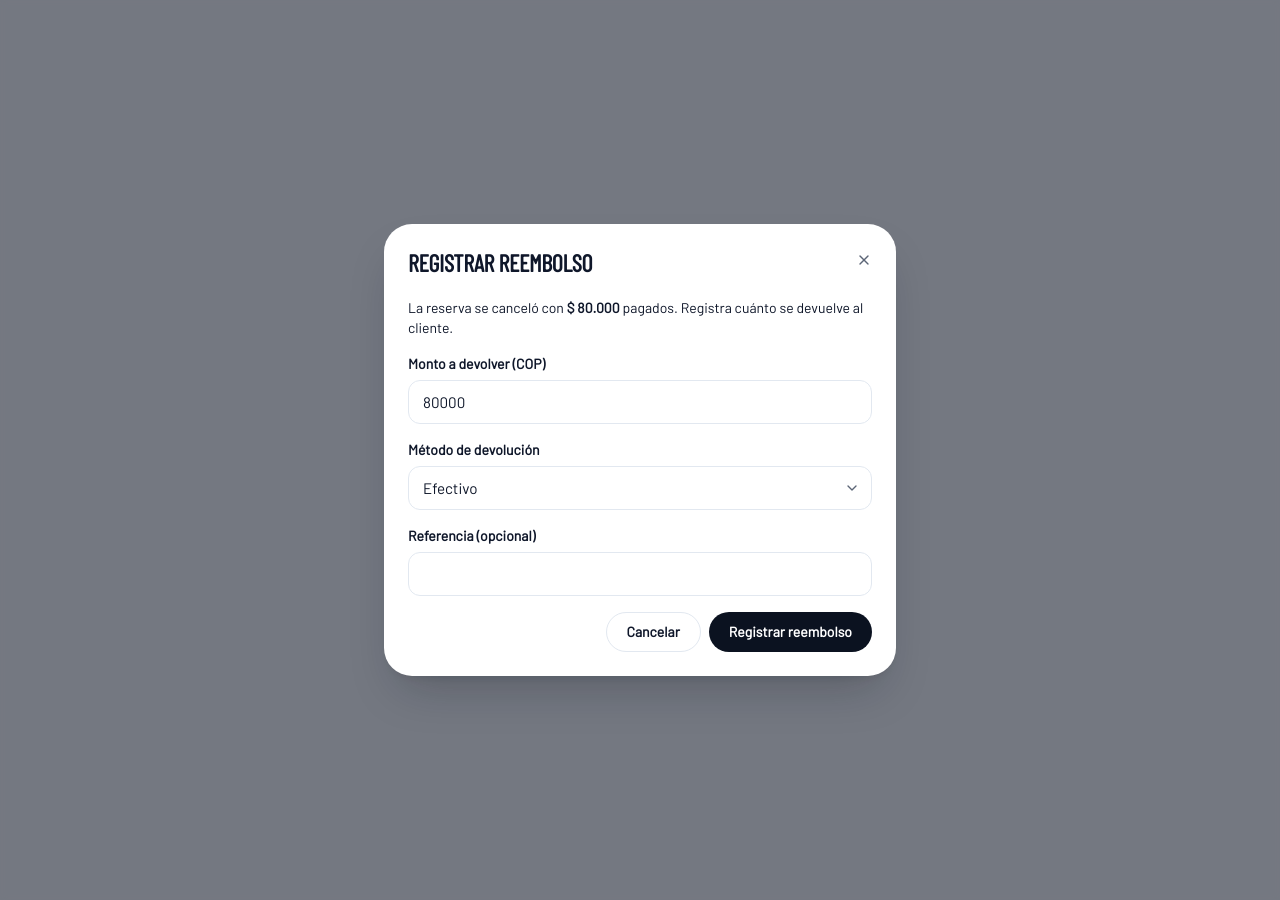
Test case: ModalReembolso › ofrece retener una parte solo cuando se devuelve menos de lo pagado
Expected: the text "retener" is not shown
Replace the text in the number field labelled "Monto a devolver (COP)" with "60000" at (640, 402), box [408,380,872,424]
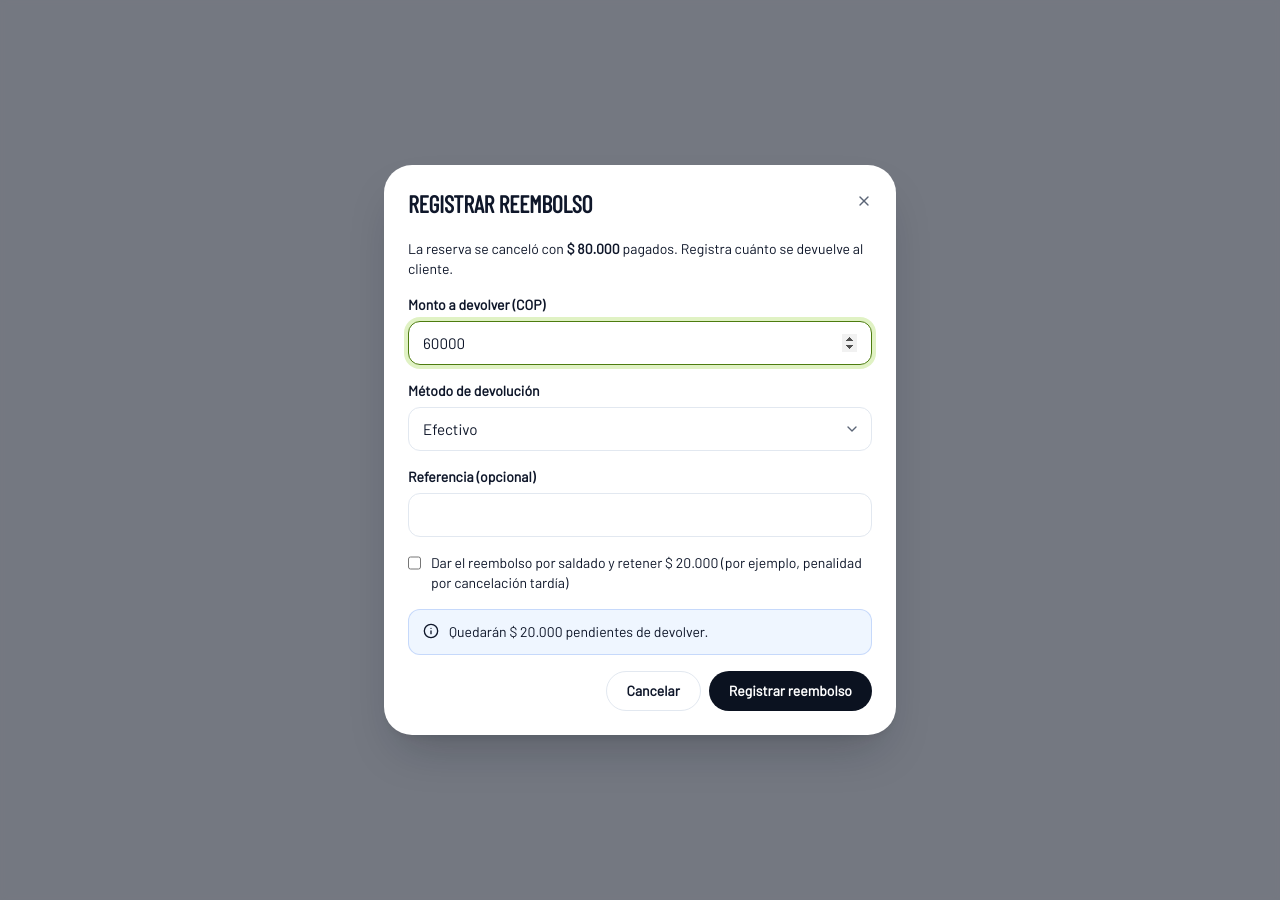
Result: the text "retener $ 20.000" is shown at [431,554,862,591]
Result: the text "Quedarán $ 20.000 pendientes de devolver." is shown at [449,623,708,640]
Click the checkbox at (414, 563), box [408,555,421,571]
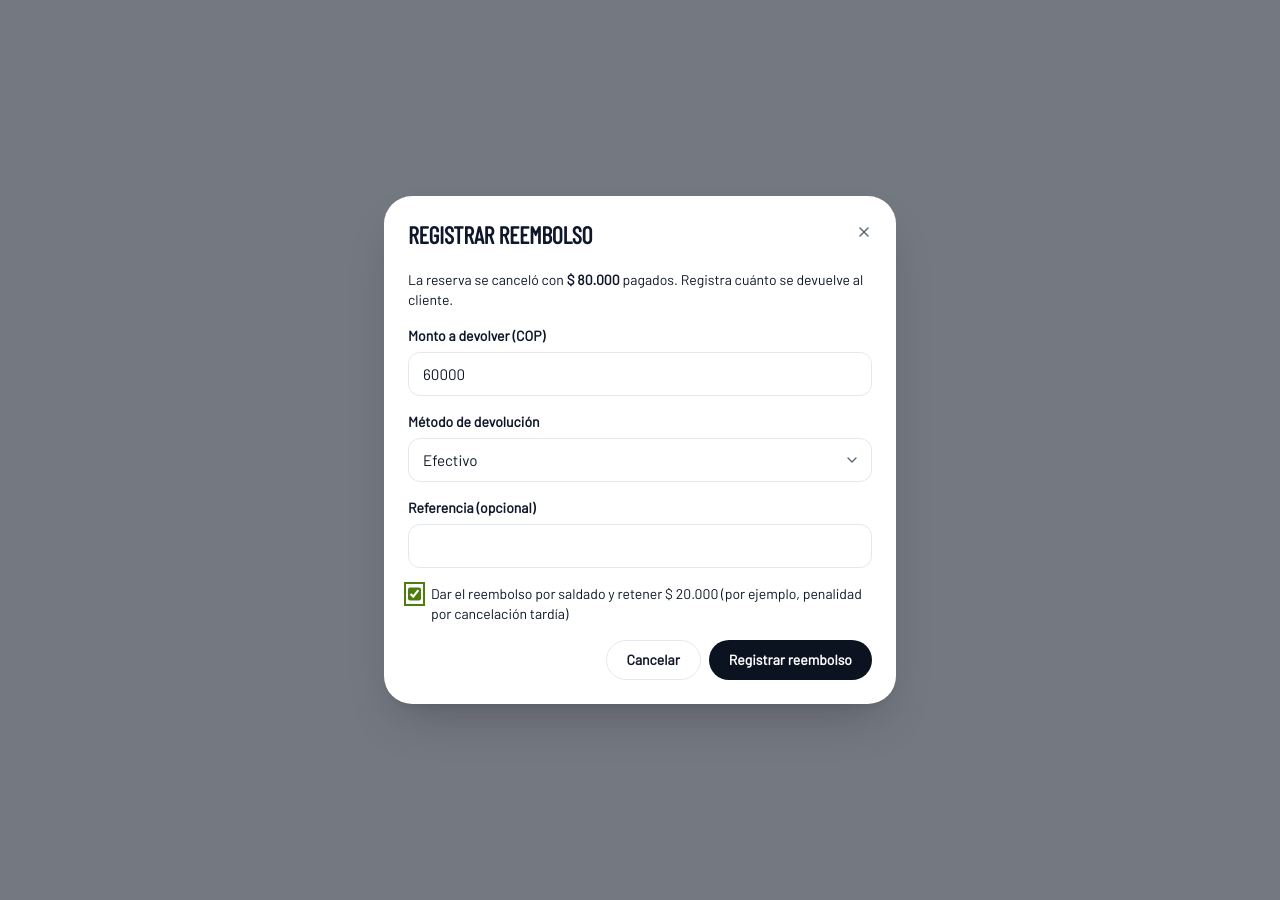
Result: the text "pendientes de devolver" is gone
